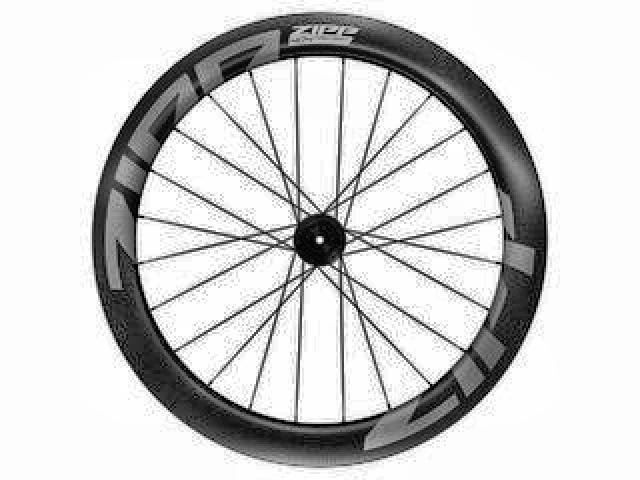wheel: (90, 9, 554, 473)
